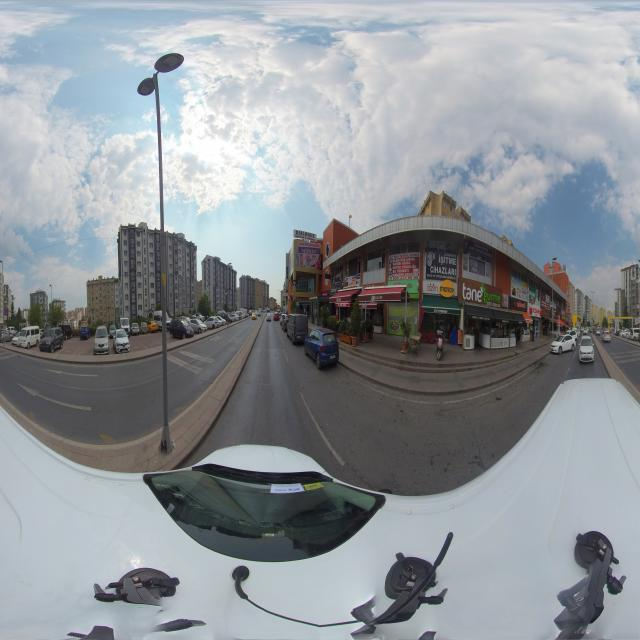SignStore: (458, 277, 503, 308), (423, 281, 458, 297), (464, 239, 492, 258), (511, 297, 528, 312), (529, 306, 541, 318), (331, 284, 341, 294), (565, 316, 569, 321), (561, 315, 565, 320)
